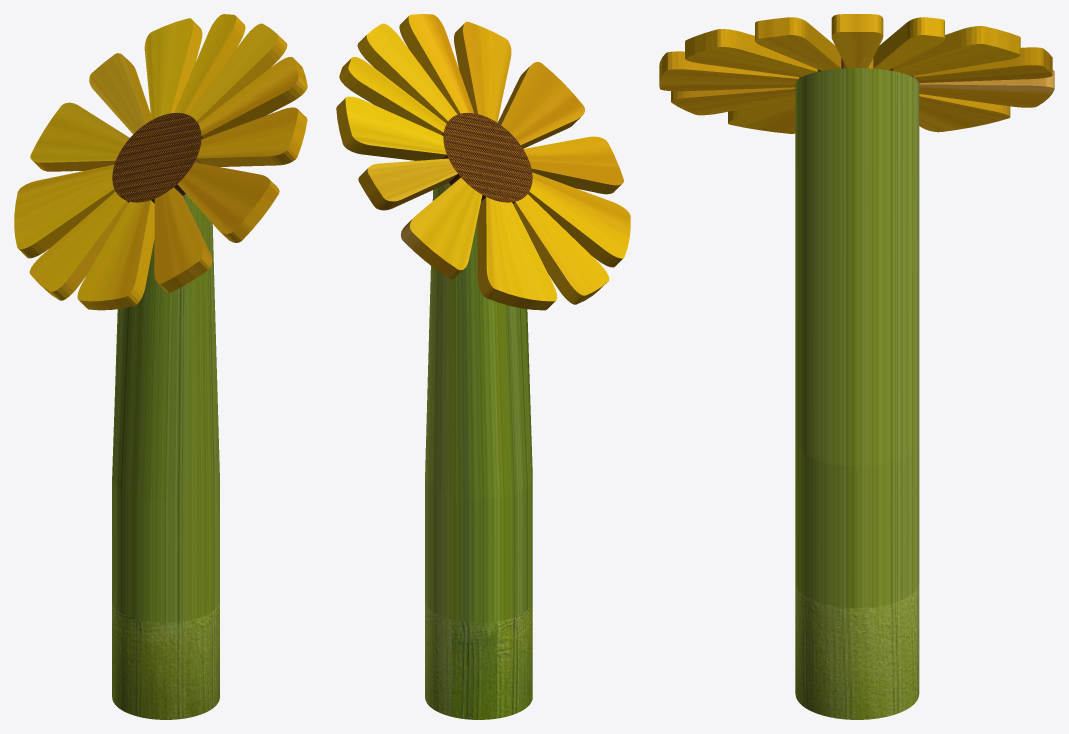
Rendered from sunflower.glb.
The picture shows the model from 3 angles, left to right: view 1: azimuth 30°, elevation 25°; view 2: azimuth 150°, elevation 25°; view 3: azimuth 270°, elevation 25°; orthographic projection. The views are drawn at different scales.
Visible parts, largest first — view 1: Cylinder.001, Cylinder, Cylinder.002; view 2: Cylinder.001, Cylinder, Cylinder.002; view 3: Cylinder, Cylinder.001.
Part boxes in pixels (bbox=[...]): Cylinder.001: bbox=[14, 14, 307, 310]; Cylinder: bbox=[112, 194, 219, 719]; Cylinder.002: bbox=[112, 112, 203, 203]; Cylinder.001: bbox=[336, 14, 630, 310]; Cylinder: bbox=[425, 183, 532, 719]; Cylinder.002: bbox=[442, 112, 532, 203]; Cylinder: bbox=[795, 68, 919, 719]; Cylinder.001: bbox=[659, 14, 1054, 133].
Size of the model in its own units: 5.07 by 13.17 by 6.39.
3 materials, 3 textured.
